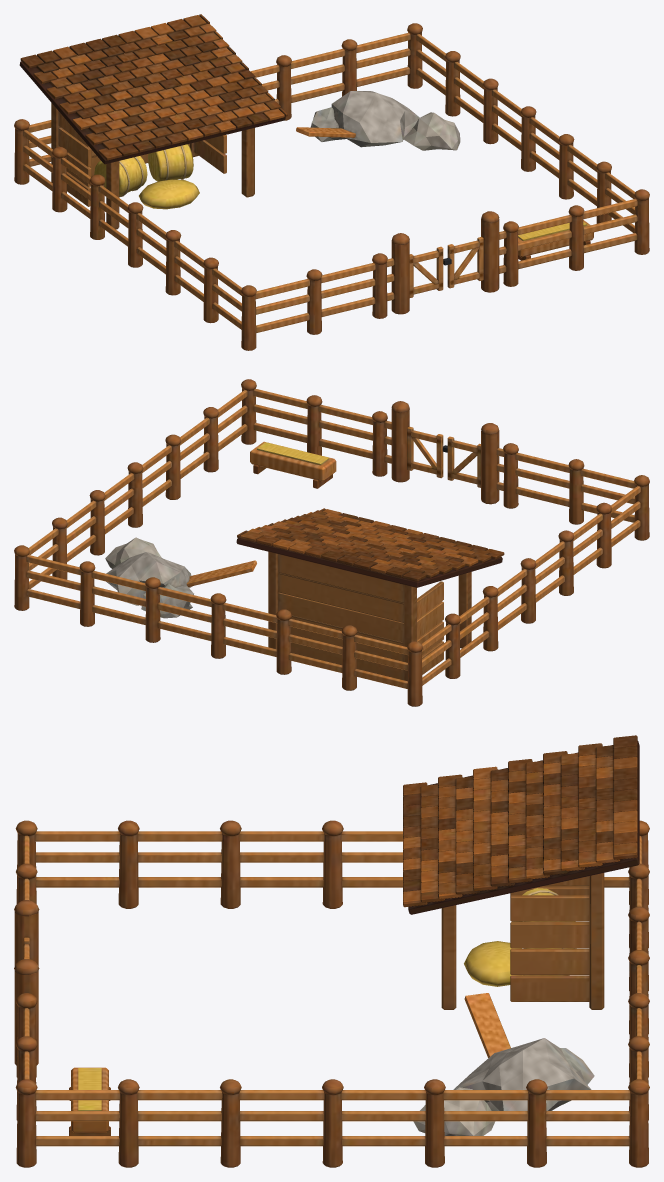
File: goat_yard.glb
3 views of the same model, one above another, from view 1: azimuth 30°, elevation 25°; view 2: azimuth 150°, elevation 25°; view 3: azimuth 270°, elevation 25° (orthographic). The views are drawn at different scales.
Visible parts, largest first — view 1: goat_yard; view 2: goat_yard; view 3: goat_yard.
Boxes of the visible parts, left/top/right/bottom form: goat_yard: left=14, top=14, right=649, bottom=350; goat_yard: left=14, top=379, right=649, bottom=706; goat_yard: left=14, top=735, right=649, bottom=1167.
Bounding box in the file's own units: 3 × 0.9345 × 3.01.
1 material, 1 textured.
